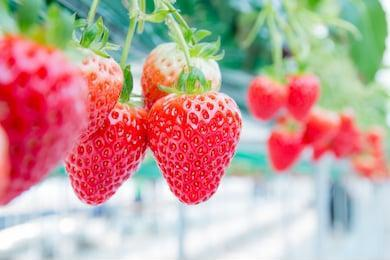Fresa: (1, 29, 93, 216), (141, 85, 248, 212), (60, 90, 151, 210)
